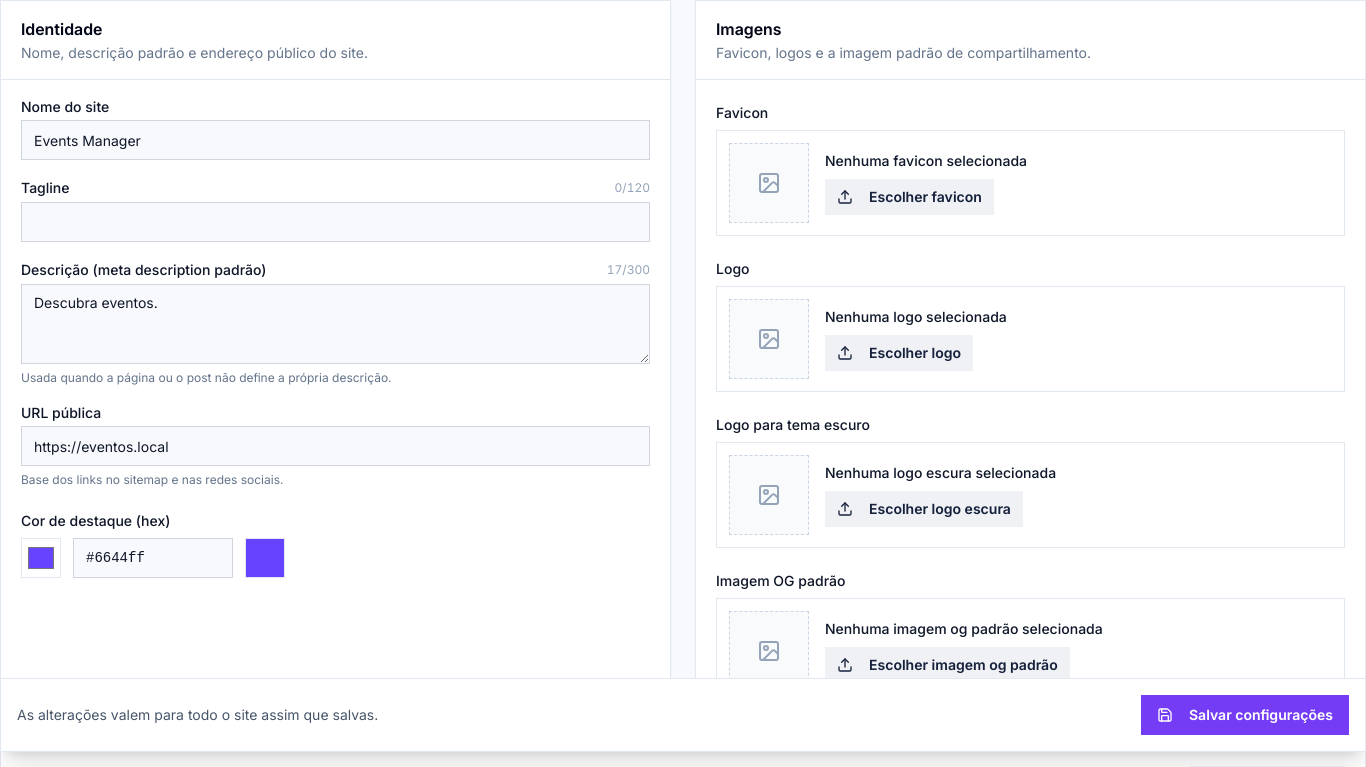
Scenario: SiteSettingsForm › shows the API problem and its field errors when the save is refused
Click the 5th button named "salvar configurações".
click(1245, 715)  # box [1141,695,1349,735]
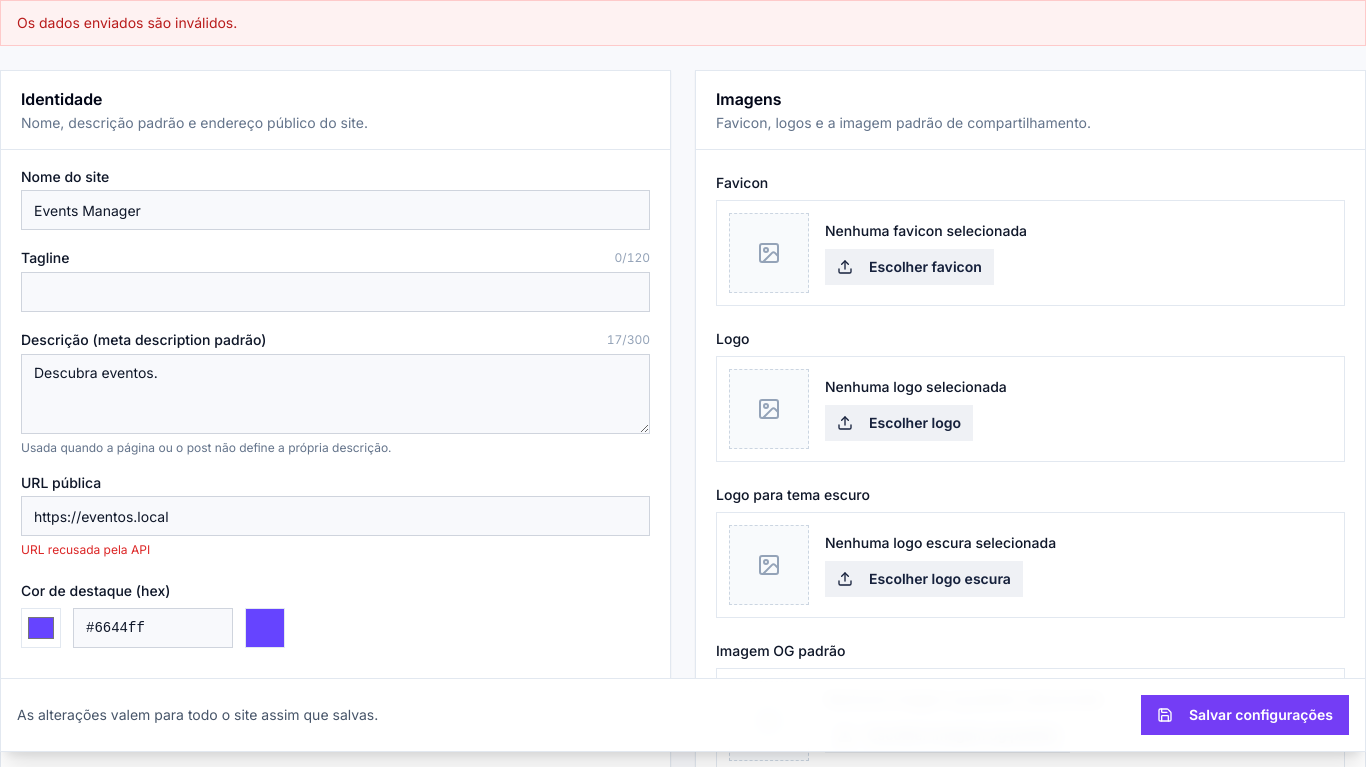
Expected: the text "URL recusada pela API" is shown, [21,542,150,557]
